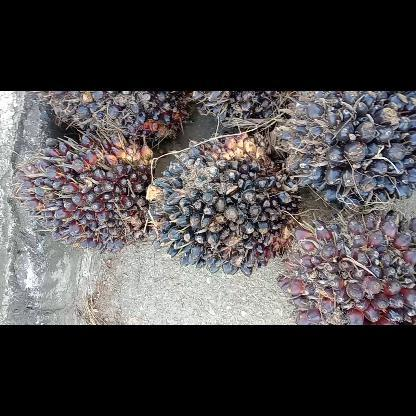TBS mentah: (143, 130, 305, 282), (8, 132, 162, 256), (274, 90, 414, 218), (275, 210, 415, 324), (27, 90, 196, 154), (190, 91, 304, 139)
